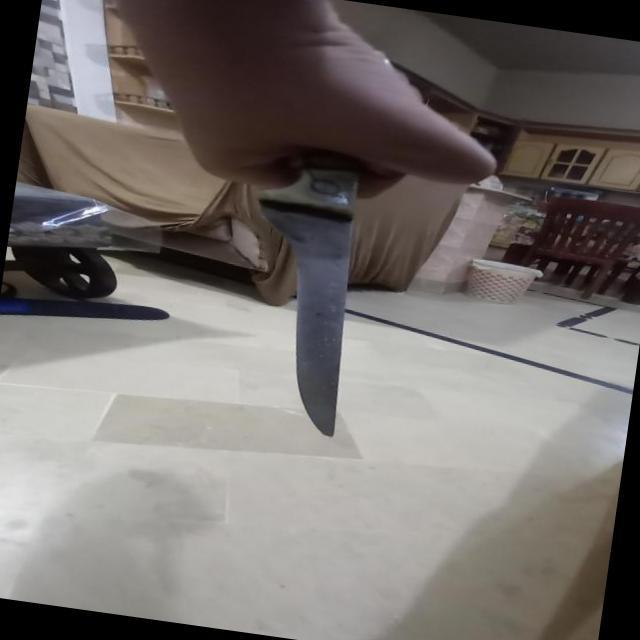Knife: (158, 51, 495, 464)
